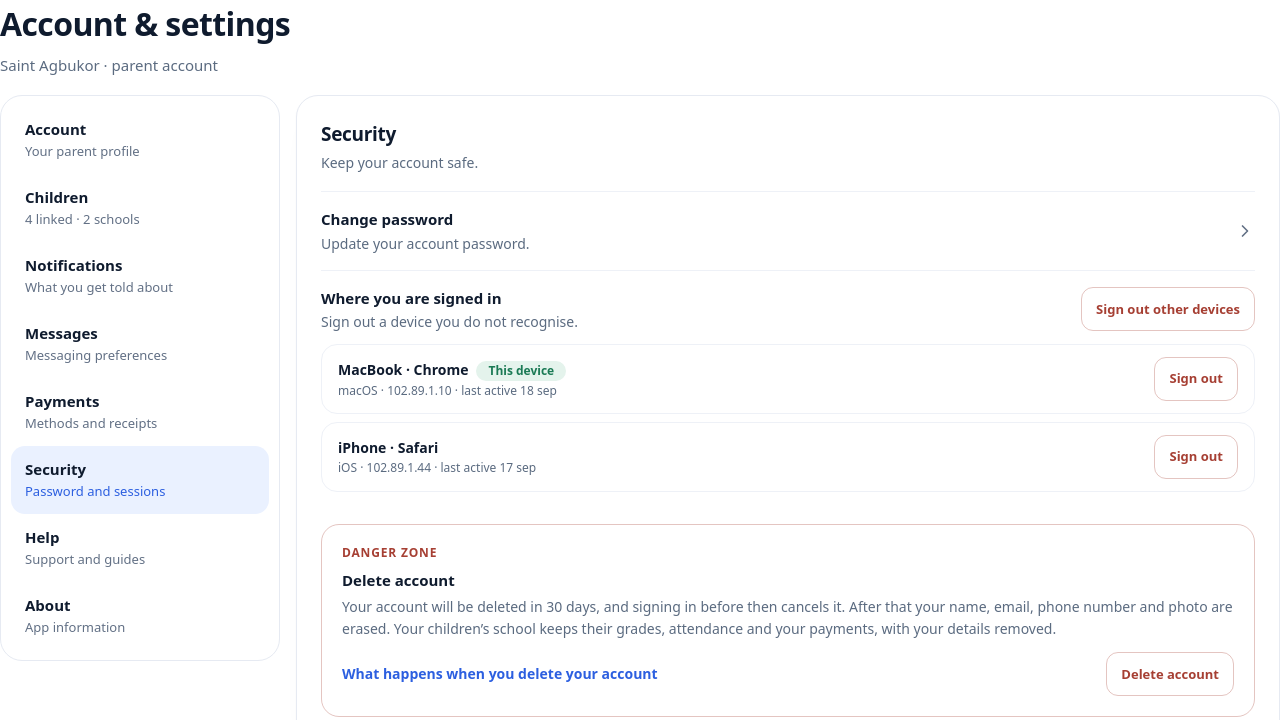
Test: Settings → Security → Danger zone (fixtures) › shows other refusals in a banner
Click the button "Delete account": [1170, 674] box [1106, 652, 1234, 696]
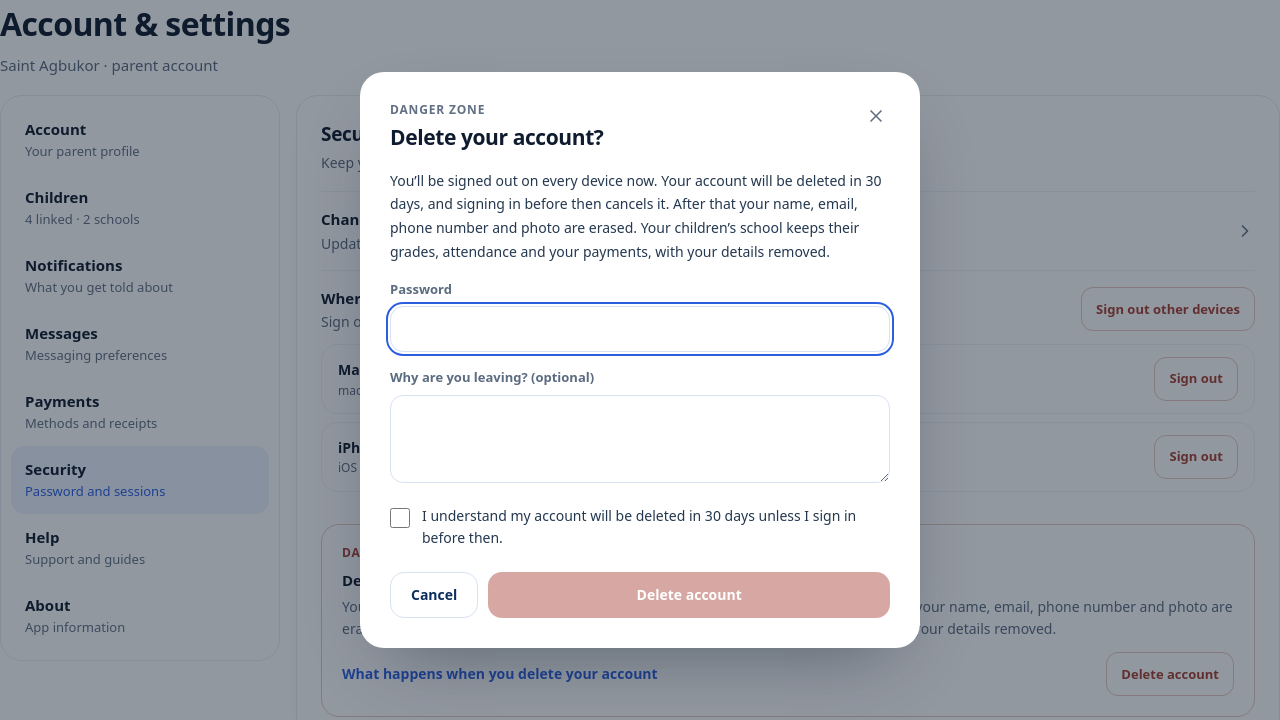
In the password field labelled "Password": [640, 329] box [390, 306, 890, 352], type "already-scheduled"
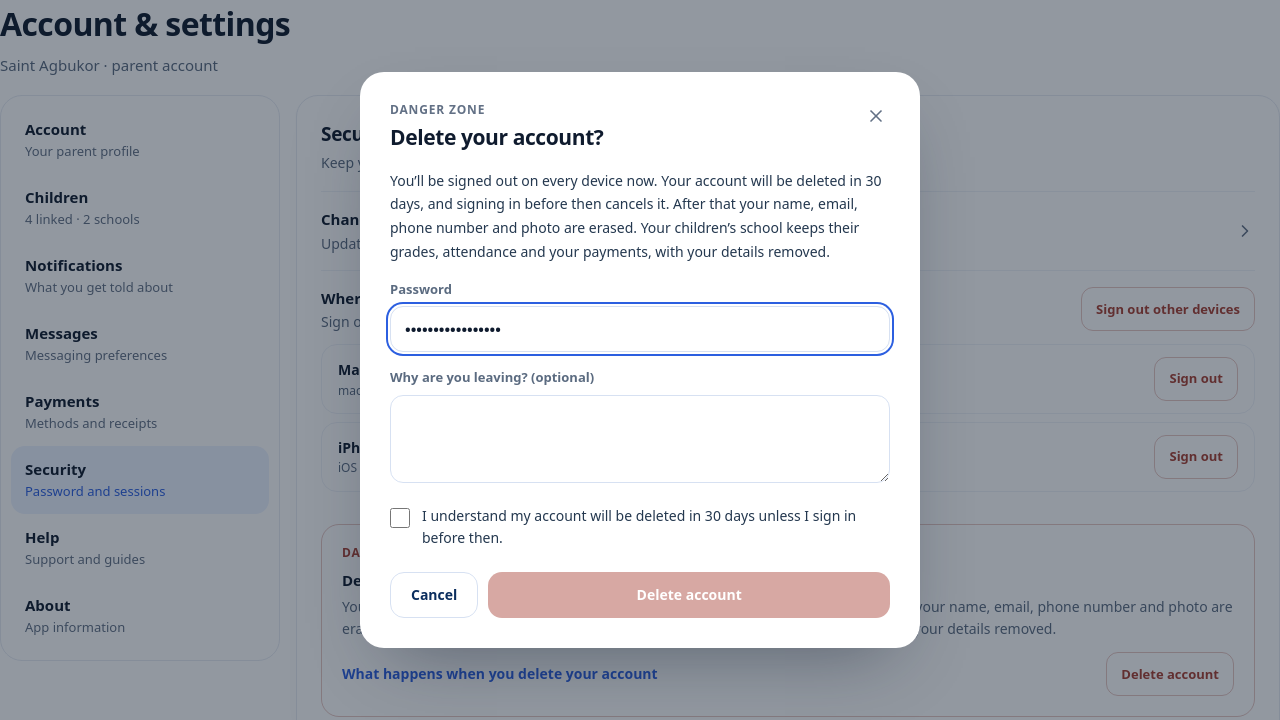
Click the checkbox labelled "I understand": [400, 518] box [390, 508, 410, 528]
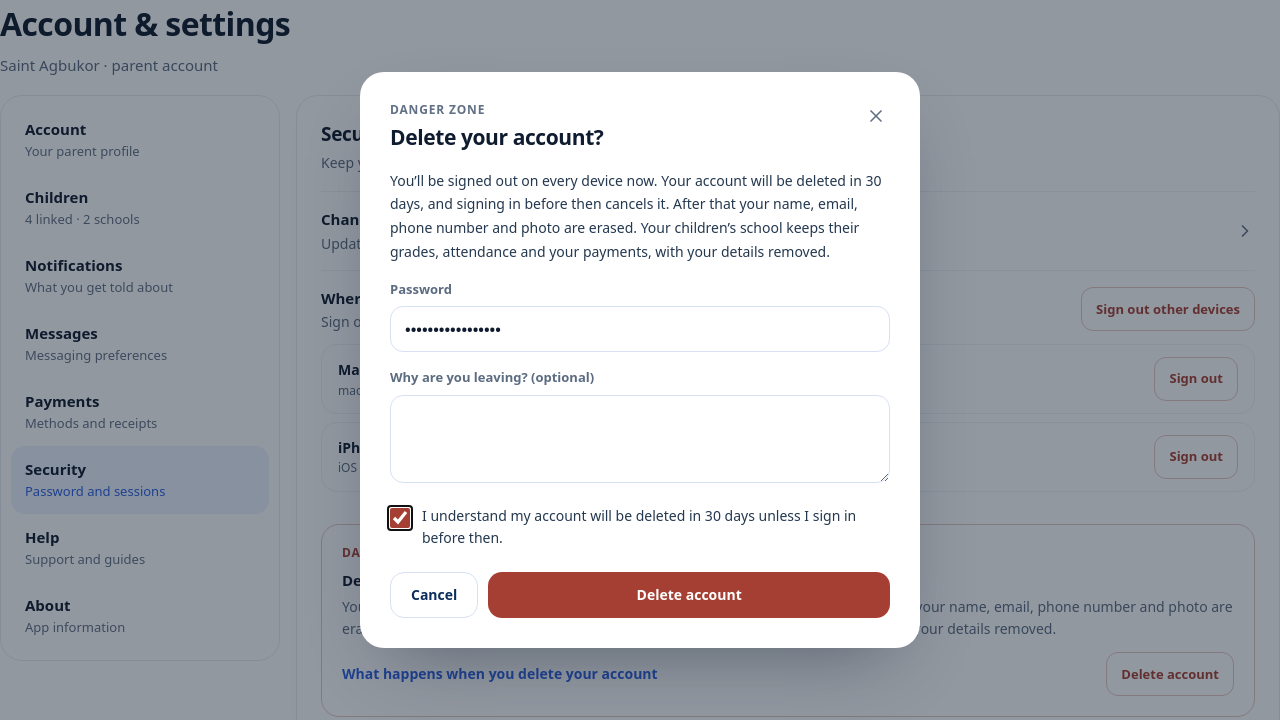
Click the button "Delete account": [689, 595] box [488, 572, 890, 618]
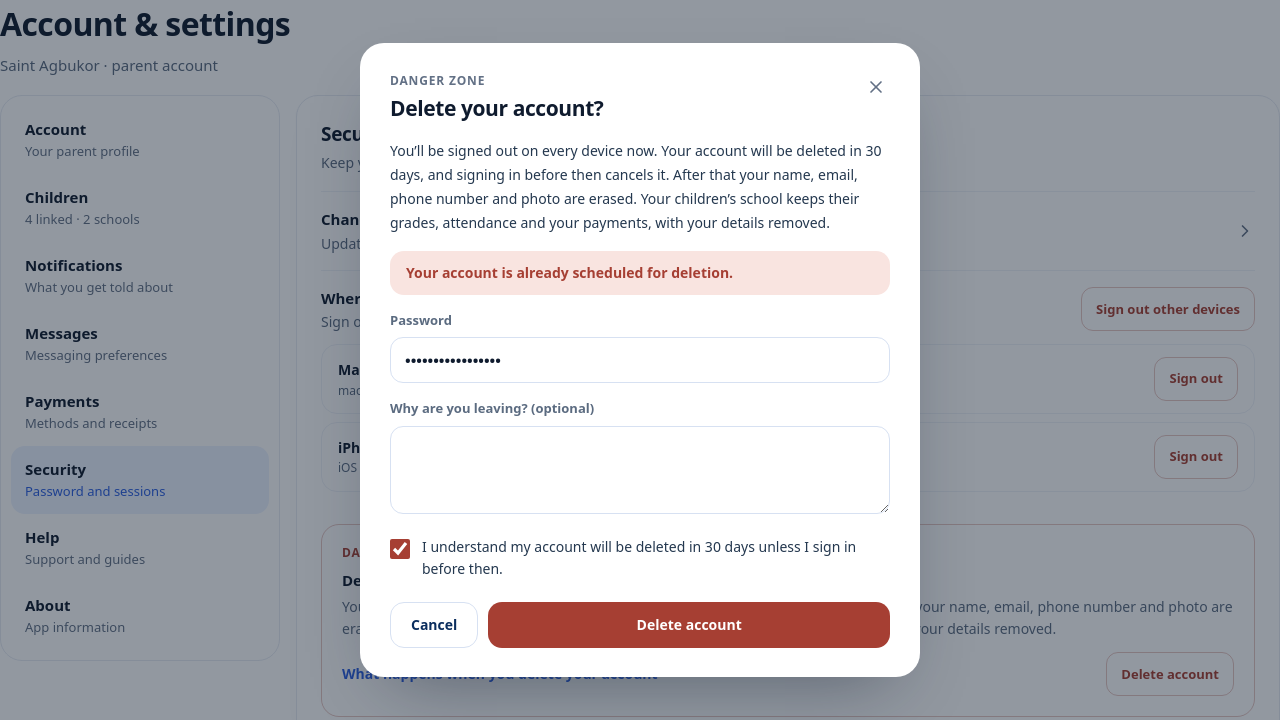
Now the message reads "Your account is already scheduled for deletion.", box [406, 263, 733, 282]
